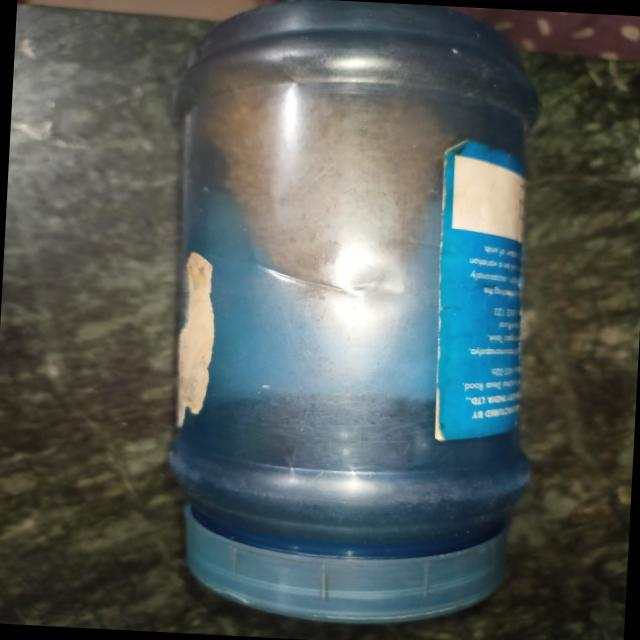plastic_bottle: (134, 2, 626, 624)
